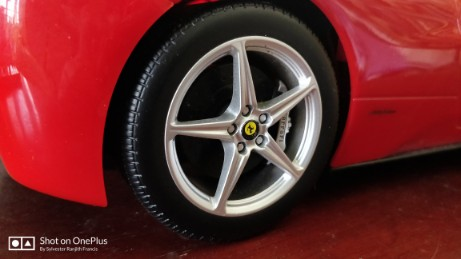aligned_wheel: (119, 1, 339, 246)
